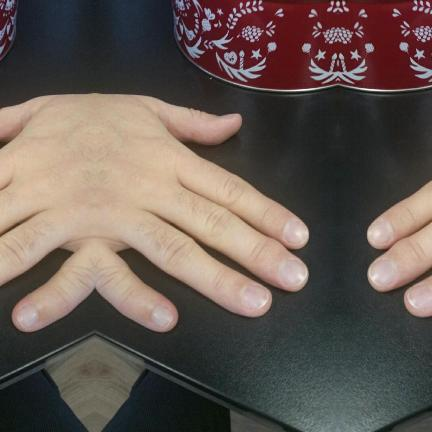Nail: (278, 258, 306, 286), (368, 258, 396, 286), (241, 284, 268, 311), (406, 284, 432, 311), (282, 221, 307, 245), (367, 221, 392, 245), (150, 307, 172, 329), (16, 307, 38, 329)
